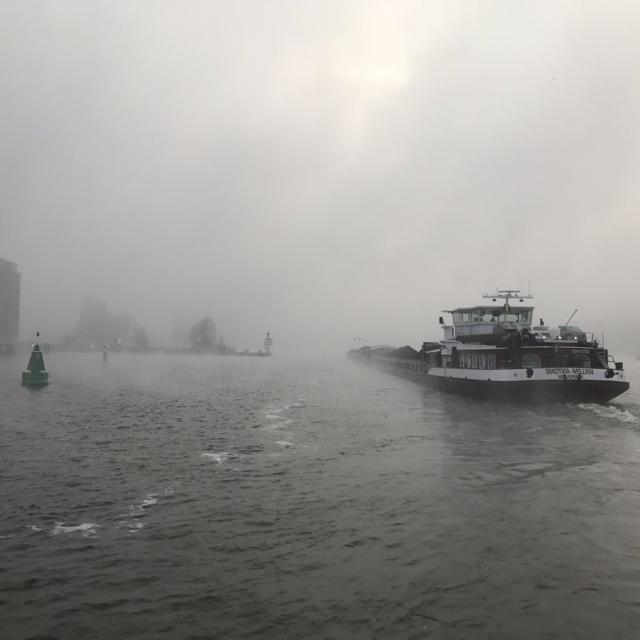buoy: (18, 329, 54, 386), (96, 342, 114, 373)
fishing boat: (344, 292, 631, 394)
